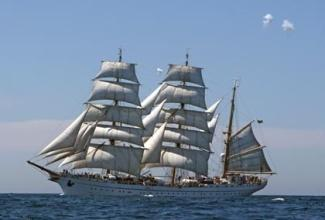fanchuan: (25, 44, 277, 202)
